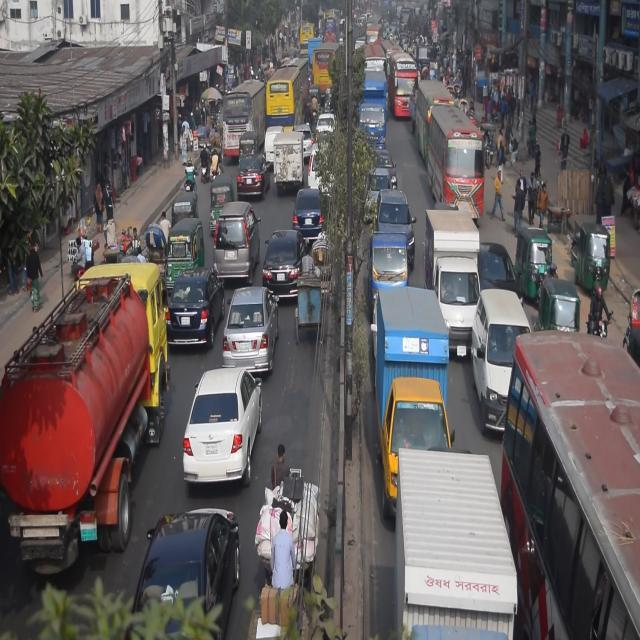bus: (422, 106, 490, 216), (222, 77, 268, 162), (386, 40, 419, 126), (266, 62, 304, 132), (314, 44, 338, 92), (364, 40, 386, 70)
car: (127, 498, 240, 640), (182, 368, 265, 493), (221, 282, 281, 377), (167, 263, 225, 350), (261, 220, 306, 310), (478, 240, 526, 320), (374, 190, 418, 271), (290, 188, 324, 235), (236, 153, 270, 199), (363, 166, 393, 216), (292, 118, 314, 158), (315, 110, 336, 139)
microbus: (472, 286, 533, 437), (214, 202, 262, 284), (308, 142, 334, 192)
motorbike: (587, 284, 614, 342)
pickup-van: (389, 447, 518, 640), (366, 284, 453, 520), (420, 206, 482, 358), (367, 228, 409, 319), (354, 70, 388, 161), (273, 128, 304, 196)
truck: (0, 259, 170, 572)
